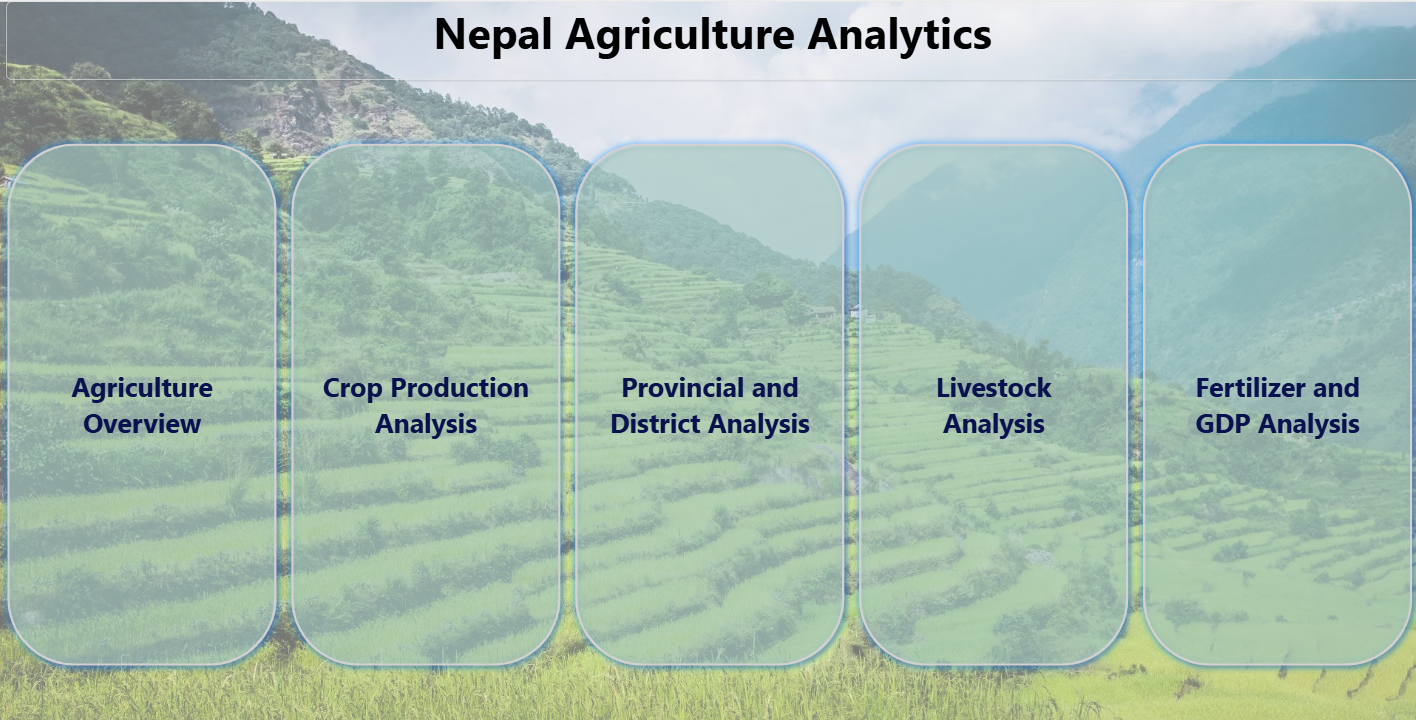

The dashboard page shown, as its layout file describes it:
{"tool":"powerbi","page":{"name":"Home Page","canvas":[1920,1080],"ordinal":0},"visuals":[{"type":"textbox","box":[9.2,49.5,1911.3,106.4],"z":0},{"type":"pageNavigator","box":[0,231.1,1920.5,726.4],"z":1000}]}

Visuals, with their boxes on the page's 1920x1080 design canvas (x1, y1, x2, y2). These are canvas units, not pixel positions in the 1416x720 screenshot, which may show the page scaled, cropped or inside an application window:
textbox: <bbox>9, 50, 1920, 156</bbox>
pageNavigator: <bbox>0, 231, 1920, 958</bbox>
